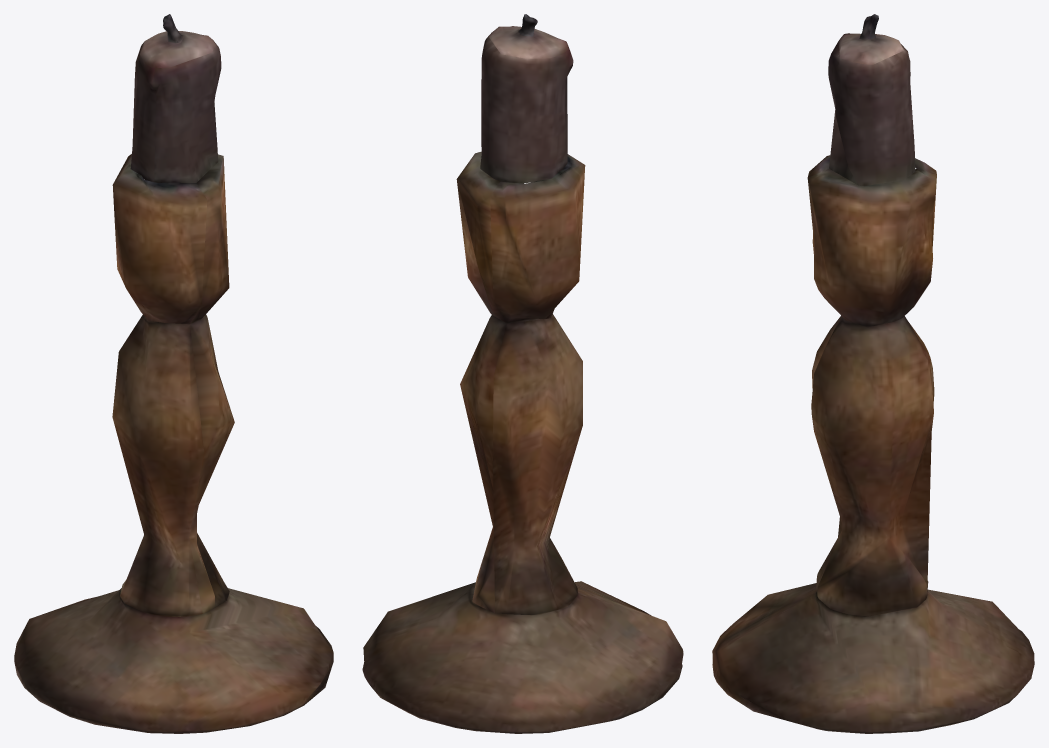
Rendered from candle.glb.
3 renders of one model, left to right at view 1: azimuth 30°, elevation 25°; view 2: azimuth 150°, elevation 25°; view 3: azimuth 270°, elevation 25°, orthographic.
Visible parts, largest first — view 1: candle; view 2: candle; view 3: candle.
Boxes of the visible parts, <box> form: candle: <box>14,14,333,733</box>; candle: <box>362,14,683,733</box>; candle: <box>712,14,1034,733</box>.
Bounding box in the file's own units: 0.0971 × 0.2196 × 0.0984.
1 material, 1 textured.
